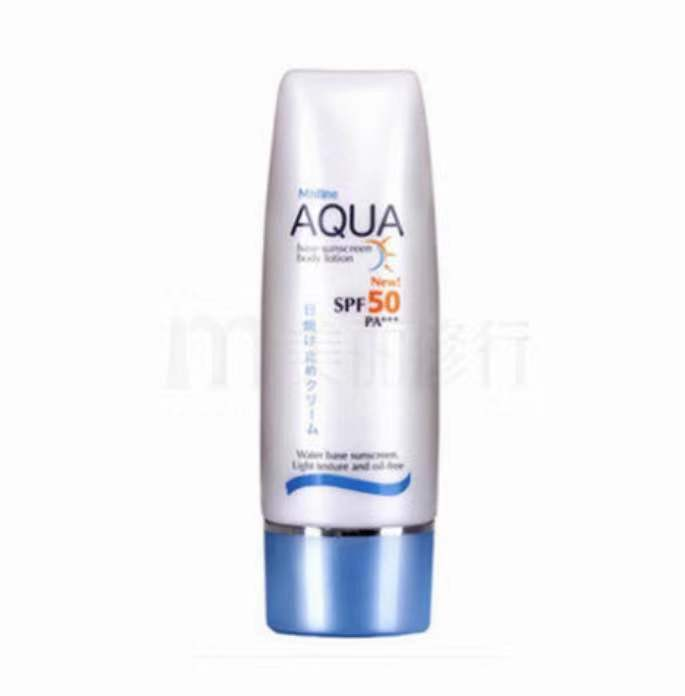cosmetic: (262, 62, 440, 636)
